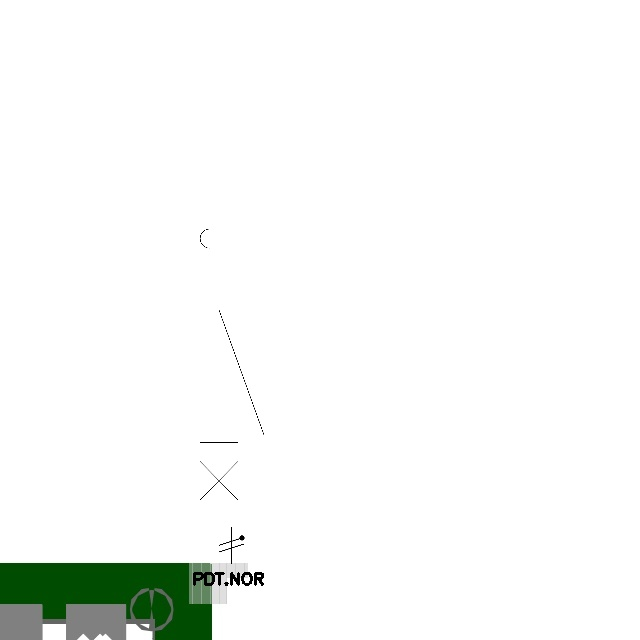interruptor_termomagnetico: (192, 197, 272, 526)
